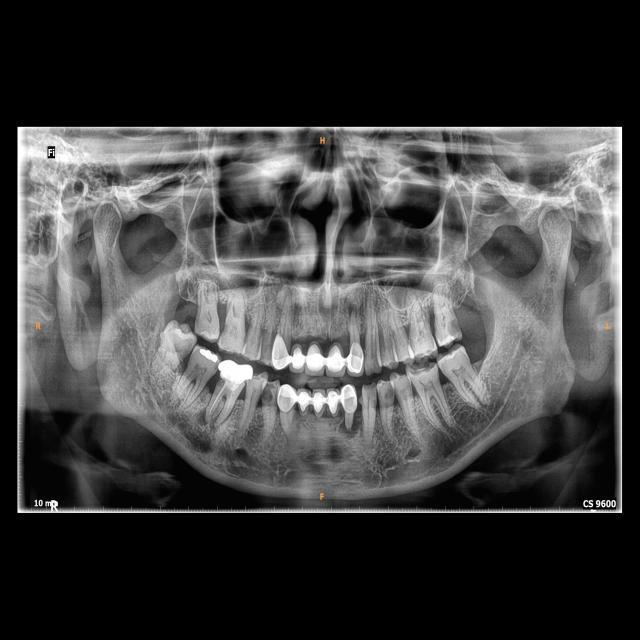dentin-curugu: (438, 306, 463, 342), (260, 378, 278, 408)
dolgu: (197, 346, 220, 371)
kanal-tedavisi: (212, 377, 243, 421)
kaplama: (221, 358, 253, 390), (272, 332, 294, 370), (305, 336, 325, 373), (324, 342, 345, 377), (339, 385, 358, 421), (275, 384, 297, 415), (345, 342, 365, 376), (290, 341, 306, 374)
kopru: (284, 385, 349, 415)
